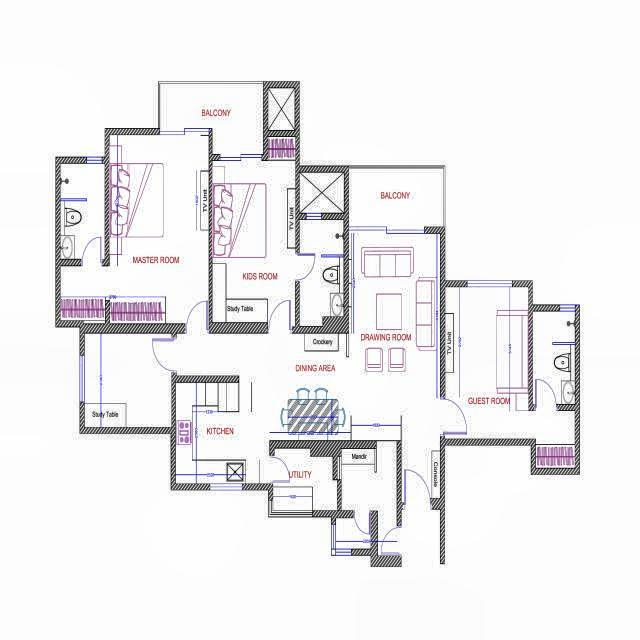room: (60, 135, 209, 324), (349, 231, 440, 501), (175, 332, 347, 441), (212, 161, 295, 327), (444, 285, 528, 440), (176, 382, 270, 484), (84, 332, 172, 428), (160, 83, 263, 154), (340, 449, 397, 555), (349, 168, 443, 227), (299, 219, 343, 326), (60, 164, 104, 260), (534, 310, 576, 404), (273, 450, 336, 511), (299, 172, 344, 214), (269, 87, 295, 129), (335, 517, 370, 548)
